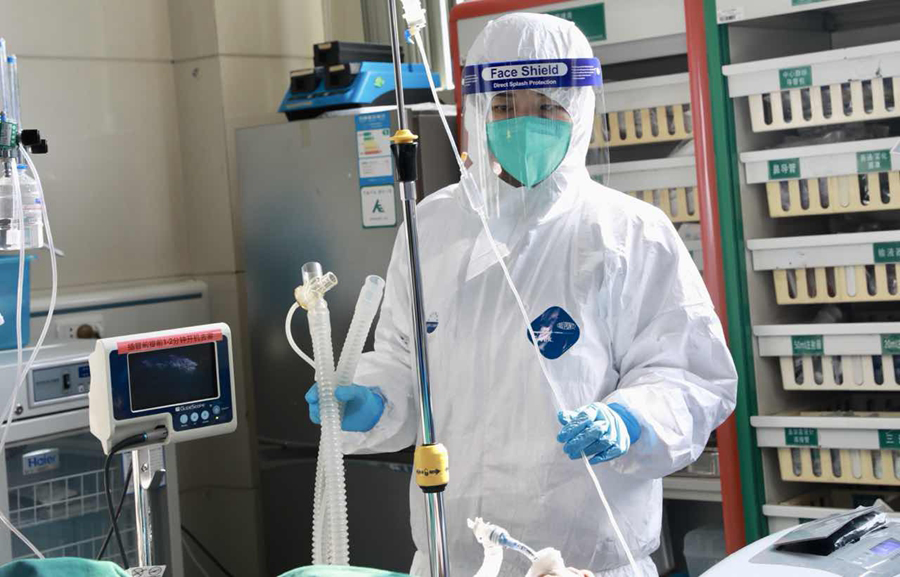Coverall: (370, 12, 736, 577)
Face_Shield: (459, 59, 612, 223)
Gloves: (556, 403, 643, 465), (305, 383, 386, 432)
with_mask: (488, 118, 572, 188)
